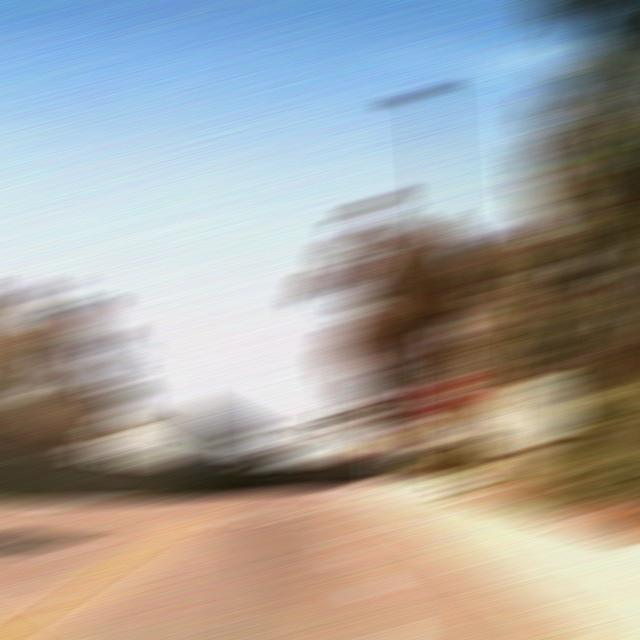stop_sign: (426, 378, 474, 409)
